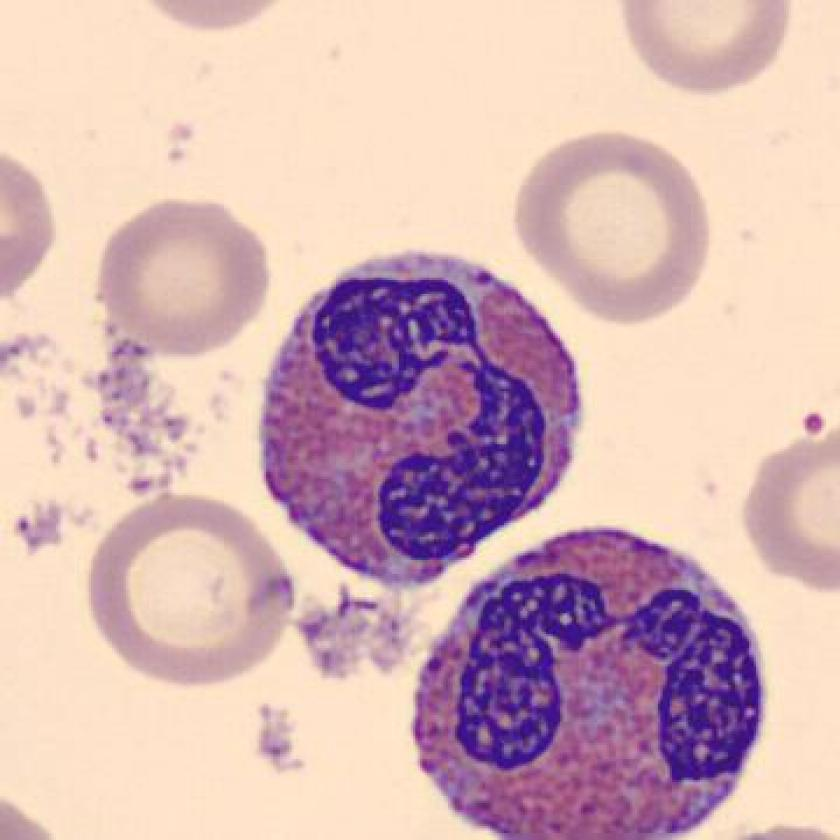eosinophil: (244, 239, 598, 603)
